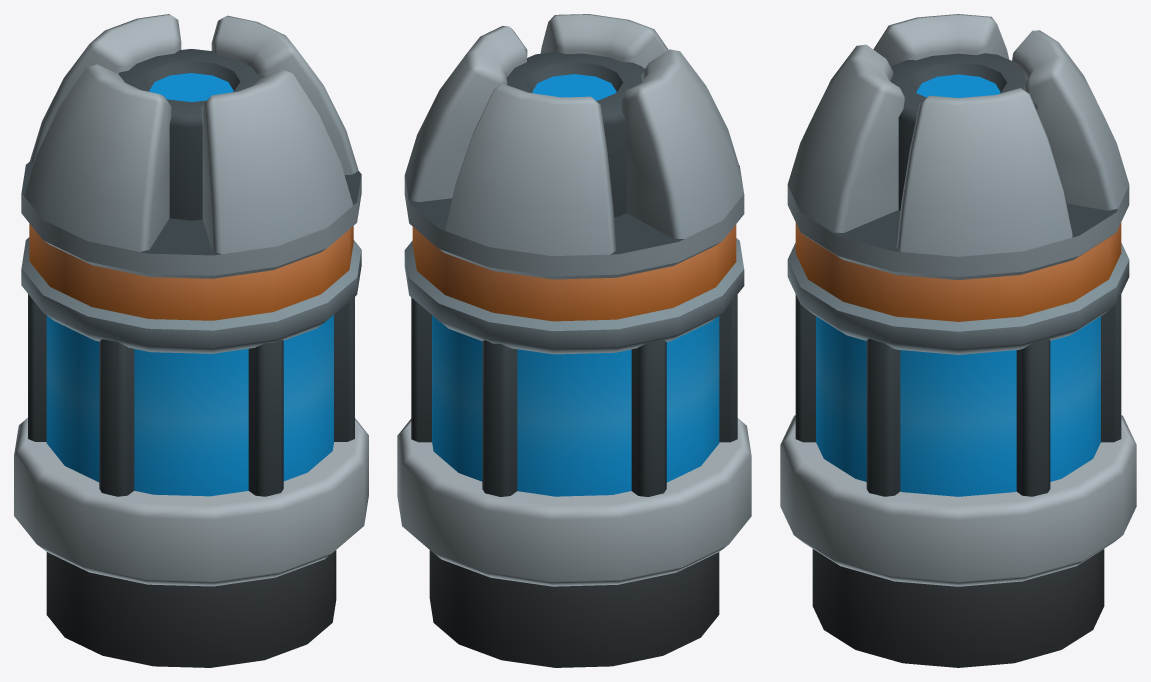
File: obstacle_10_001.fbx
3 renders of one model, left to right at view 1: azimuth 30°, elevation 25°; view 2: azimuth 150°, elevation 25°; view 3: azimuth 270°, elevation 25°, orthographic.
Parts seen in each view (by area): view 1: obstacle_10_001; view 2: obstacle_10_001; view 3: obstacle_10_001.
Part boxes in pixels (<box>): obstacle_10_001: <box>14,14,368,667</box>; obstacle_10_001: <box>397,14,751,667</box>; obstacle_10_001: <box>780,14,1136,667</box>.
Size of the model in its own units: 157 by 157 by 268.
